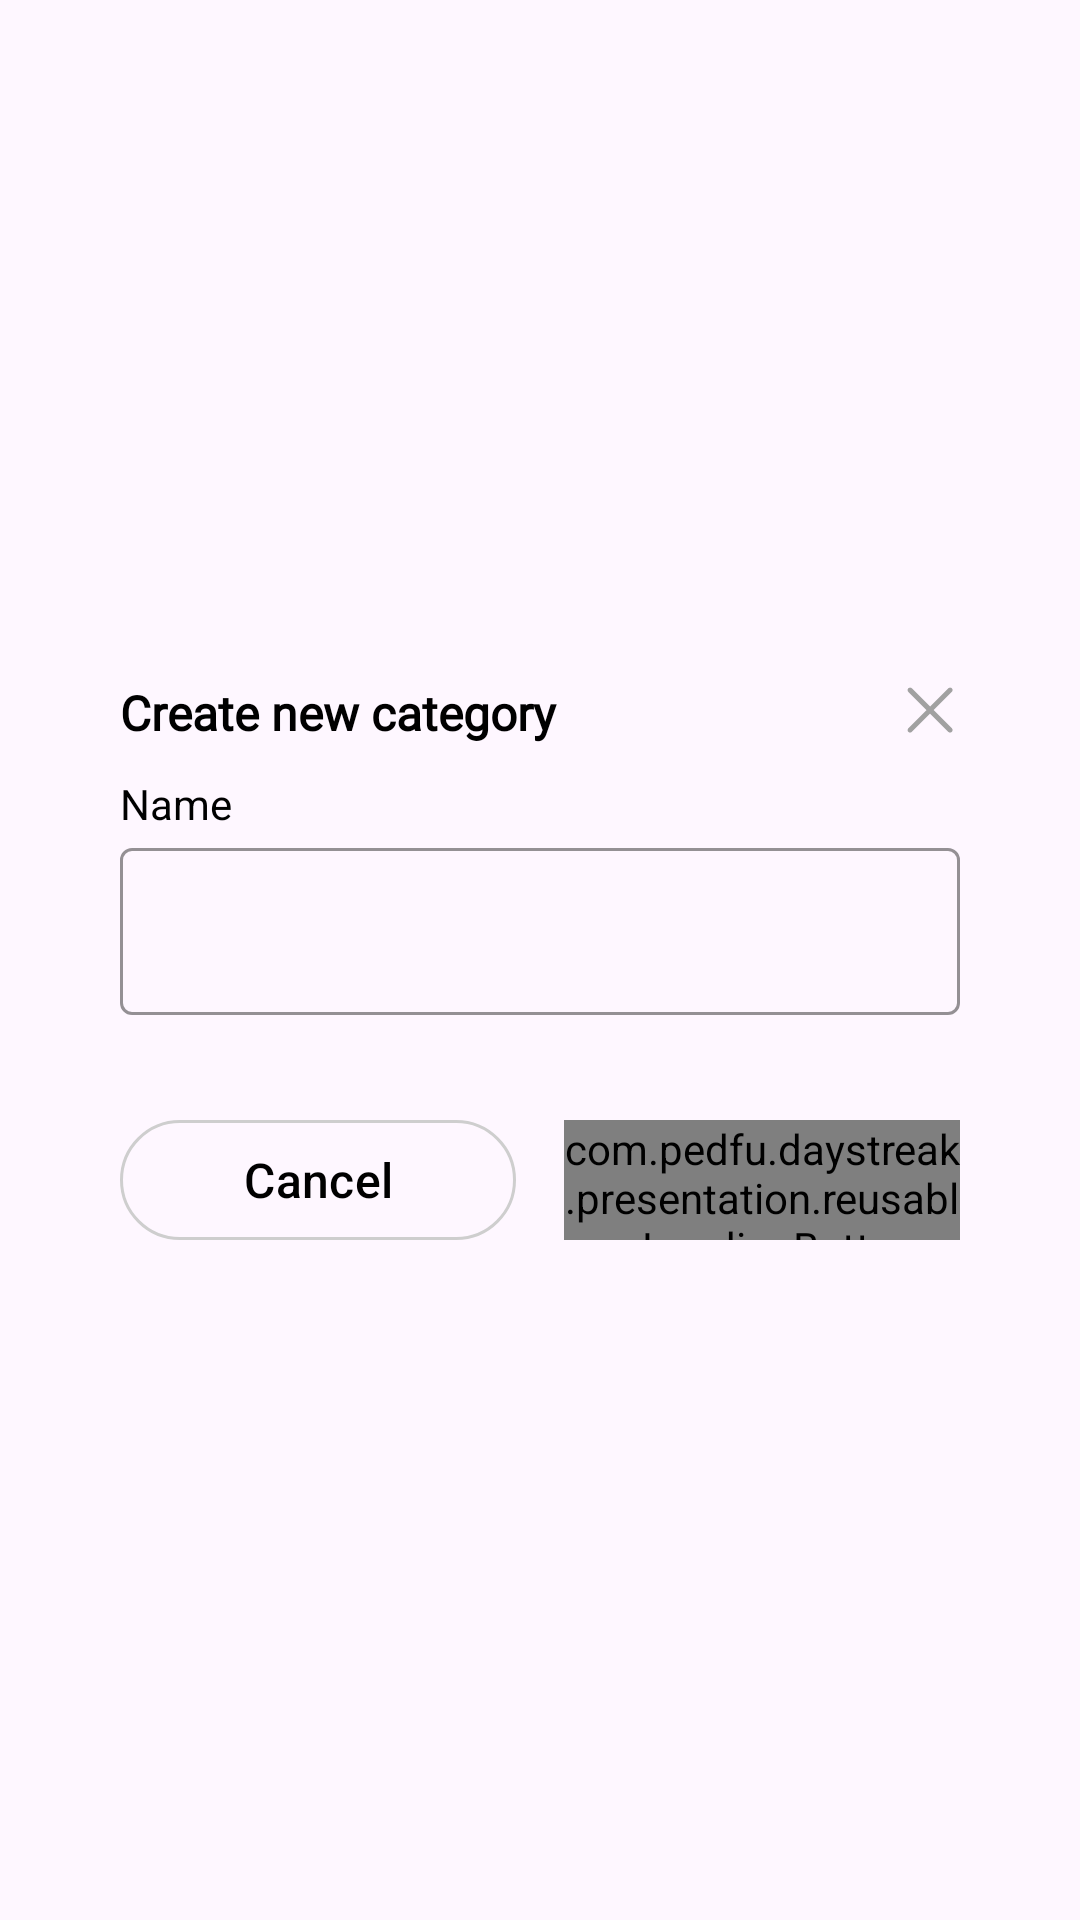

Where to tap for icons on this 1080w x 1920h app screen, as (x=x, y=y):
close: (x=930, y=710)
